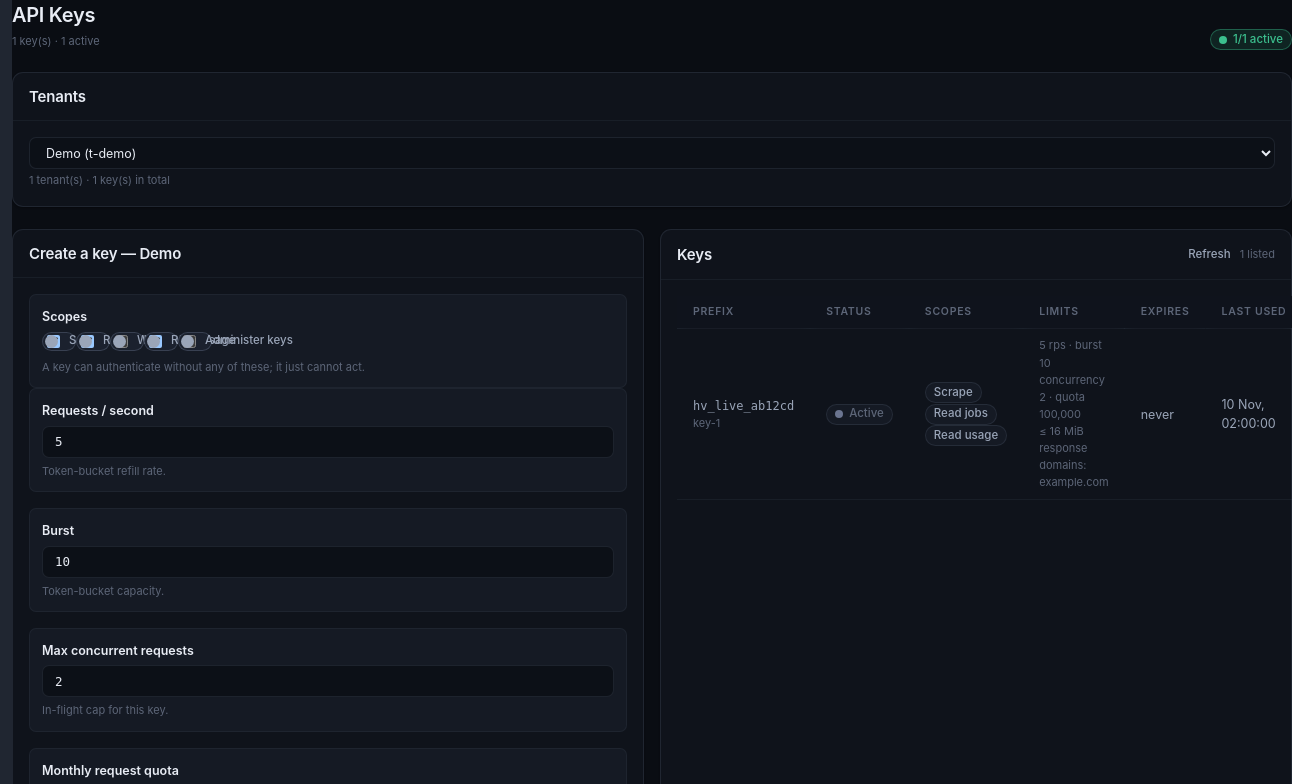
Test: ApiKeys page › refuses to create a key with no scopes and does not post
The width and height of the screenshot is (1292, 784).
Check: the text "hv_live_ab12cd" is shown, box [693,399,794,413]
Click the checkbox labelled "Scrape" at {"x": 54, "y": 341}, box [47,335,60,348]
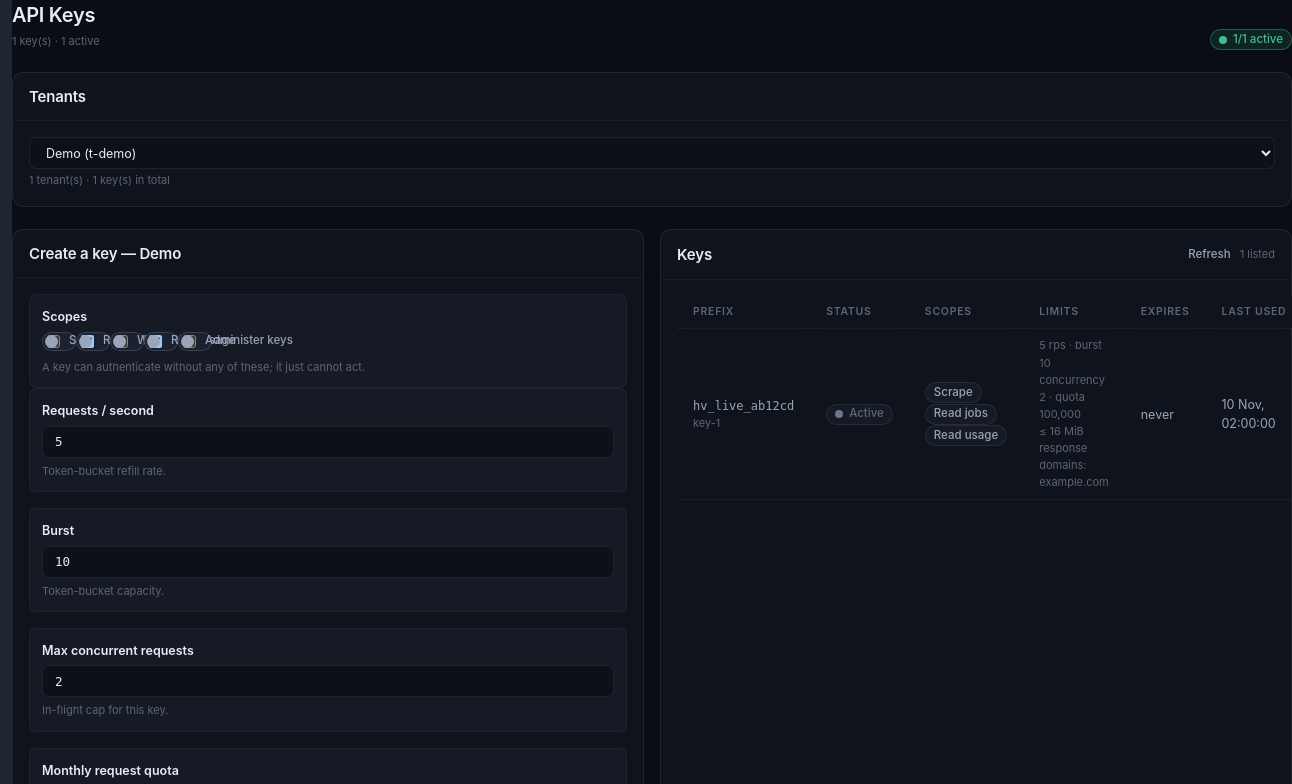
Click the checkbox labelled "Read jobs" at {"x": 88, "y": 341}, box [81,335,94,348]
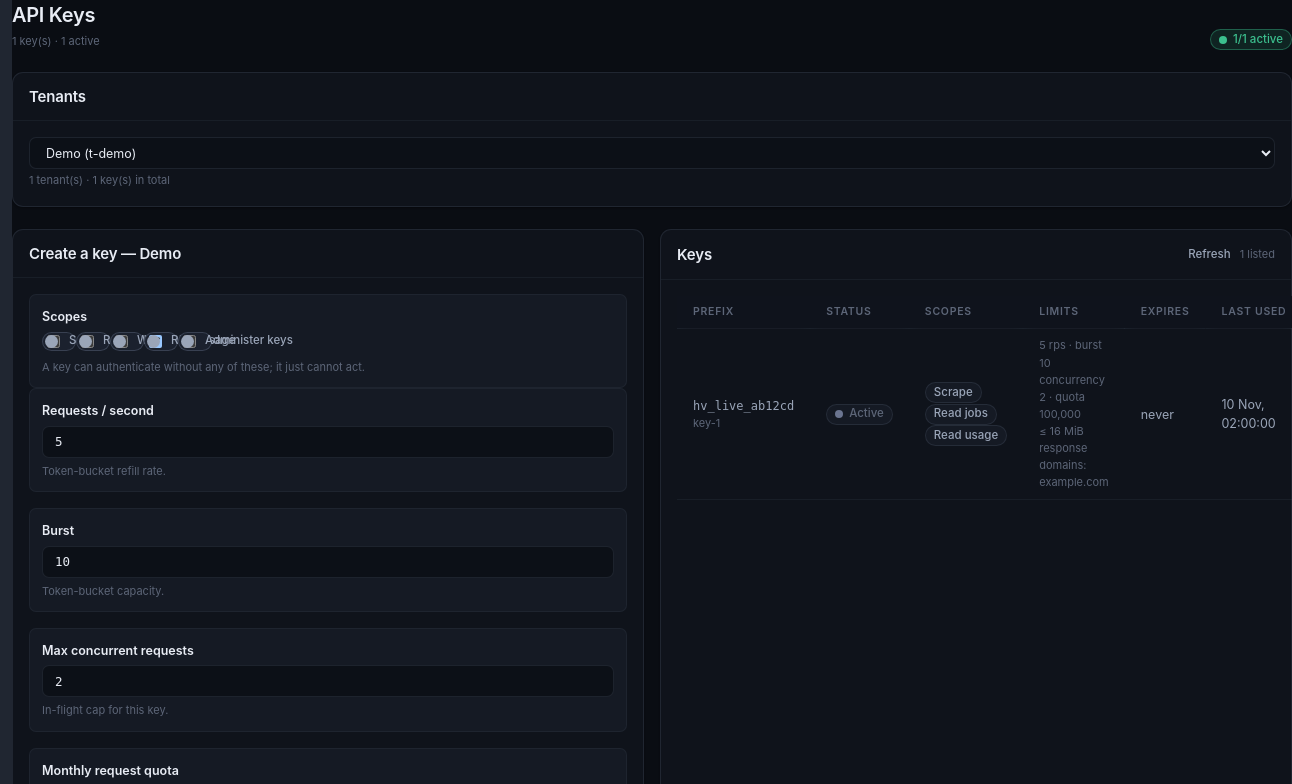
Click the checkbox labelled "Read usage" at {"x": 156, "y": 341}, box [149,335,162,348]
(page scrolled)
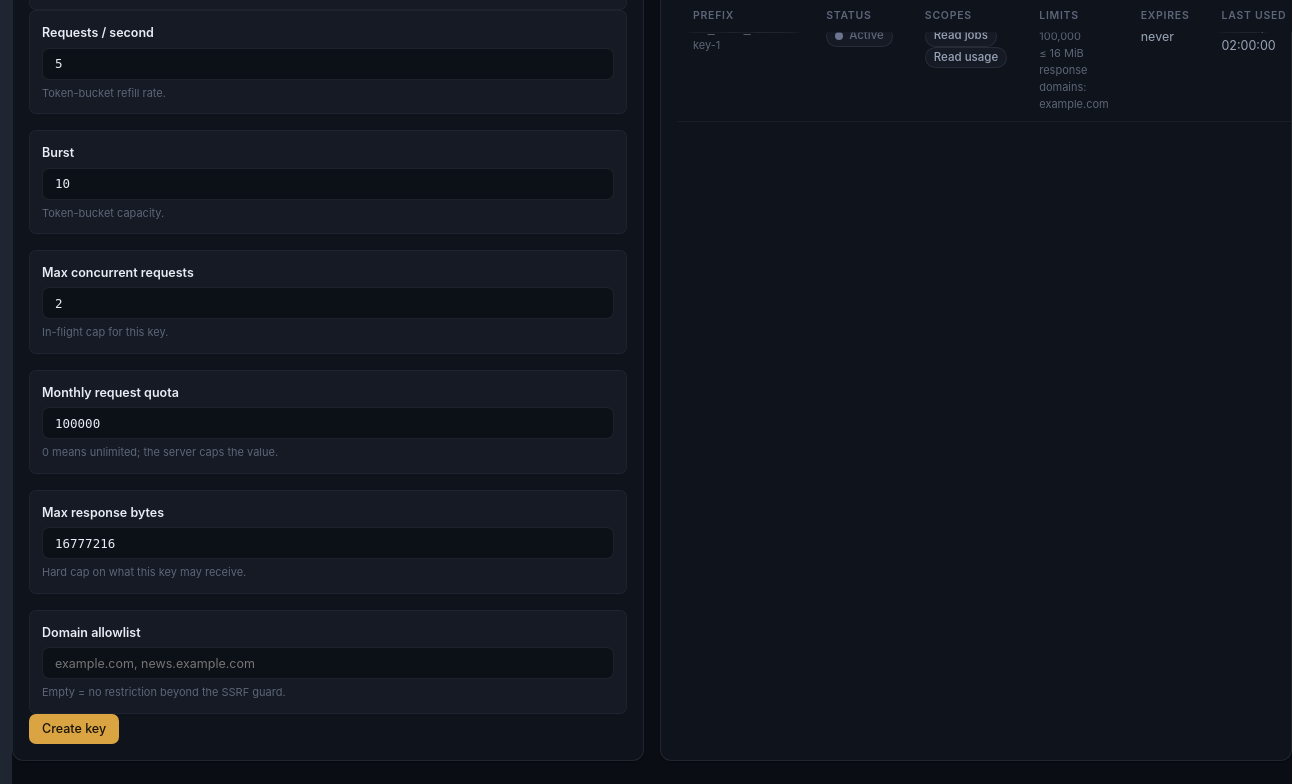
Click the button "Create key" at {"x": 74, "y": 728}, box [29,714,119,744]
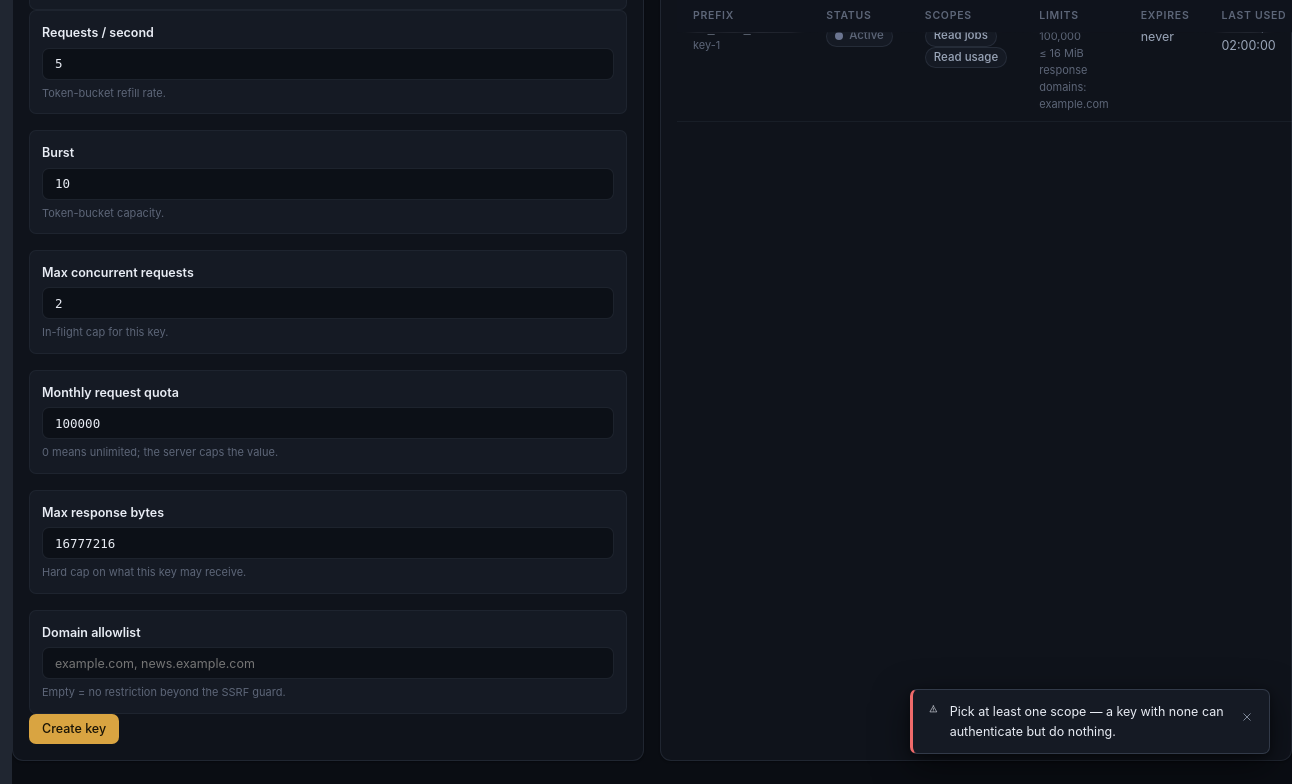
Check: the text "Pick at least one scope" is shown, box [950,704,1224,739]
